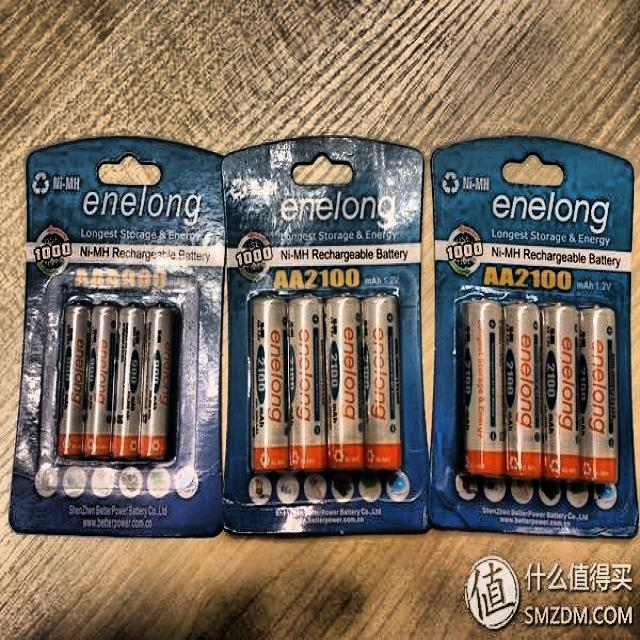battery: (58, 303, 174, 459), (462, 300, 504, 474), (325, 295, 365, 470), (361, 295, 401, 470), (250, 295, 289, 471), (541, 305, 579, 479), (579, 307, 616, 482), (288, 297, 325, 470), (504, 303, 540, 478)
